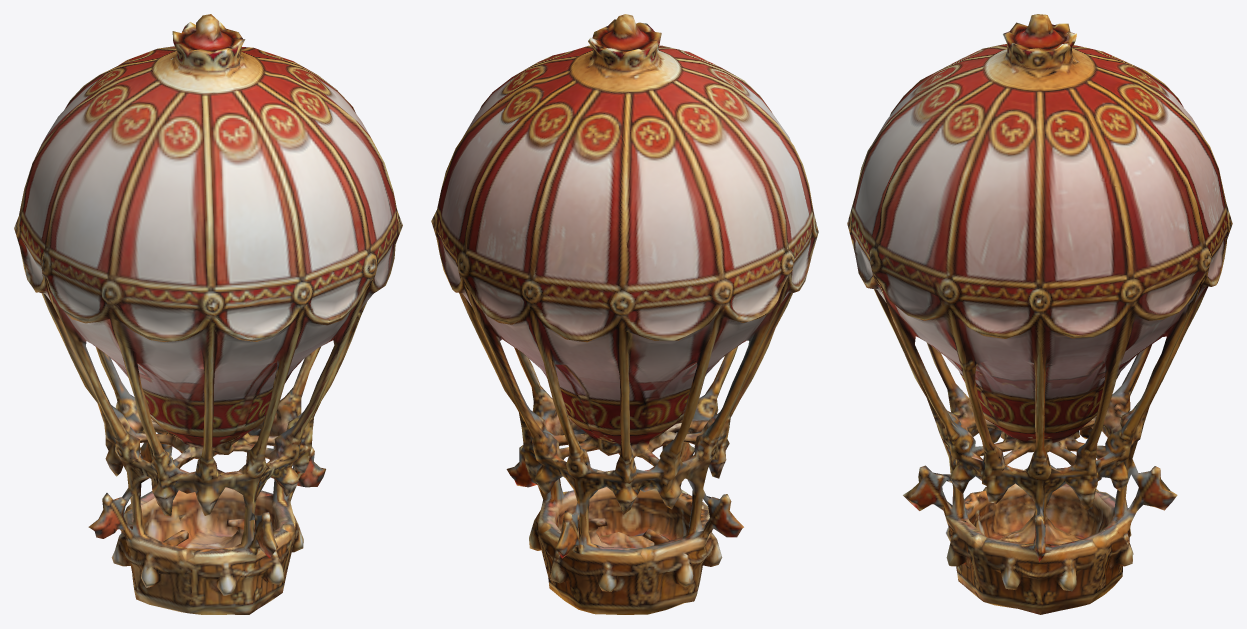
3 views of the same model, side by side, from view 1: azimuth 30°, elevation 25°; view 2: azimuth 150°, elevation 25°; view 3: azimuth 270°, elevation 25° (orthographic).
Visible parts, largest first — view 1: texture_mapping; view 2: texture_mapping; view 3: texture_mapping.
Boxes of the visible parts, left/top/right/bottom form: texture_mapping: left=14, top=14, right=402, bottom=614; texture_mapping: left=431, top=14, right=818, bottom=614; texture_mapping: left=847, top=14, right=1232, bottom=614.
Bounding box in the file's own units: 0.617 × 1 × 0.618.
1 material, 1 textured.
